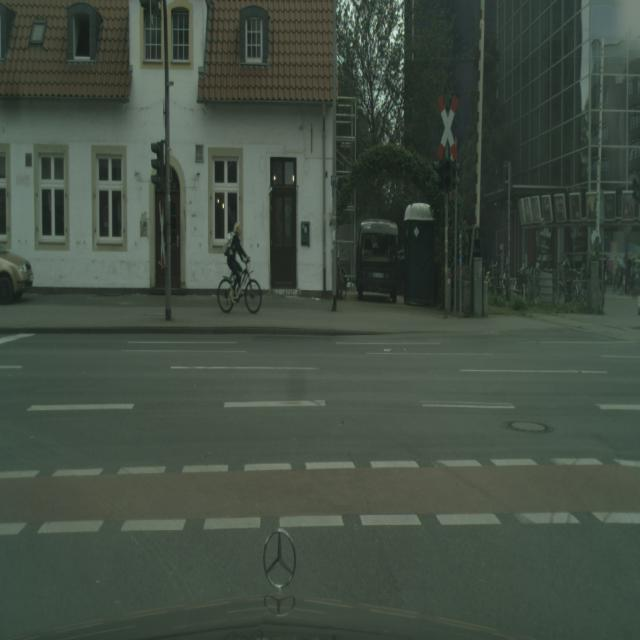bicycle: (356, 219, 398, 303)
car: (218, 256, 262, 312)
person: (223, 222, 249, 299)
truck: (0, 249, 34, 304)
